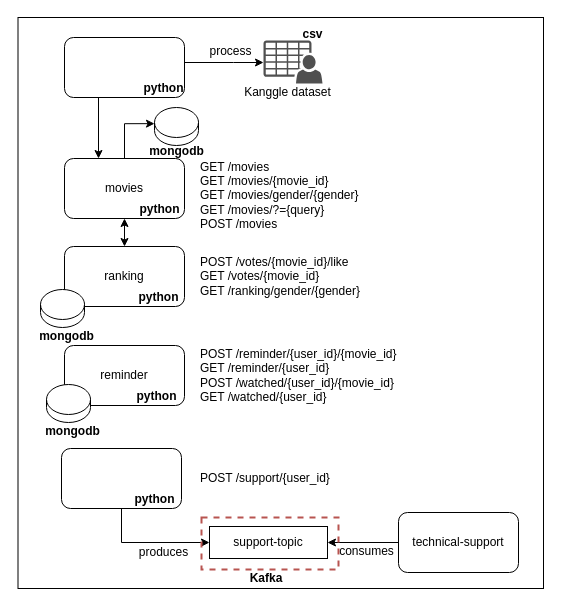
Image size: 561x606. Some labels were removed from this diagram. The shapes that lost their labels are listed below. From the top down, each one's box as (x1, y1, x2, y2) in pixels, then its label:
(64, 36, 184, 98): movie-scraper
(60, 448, 182, 508): support
